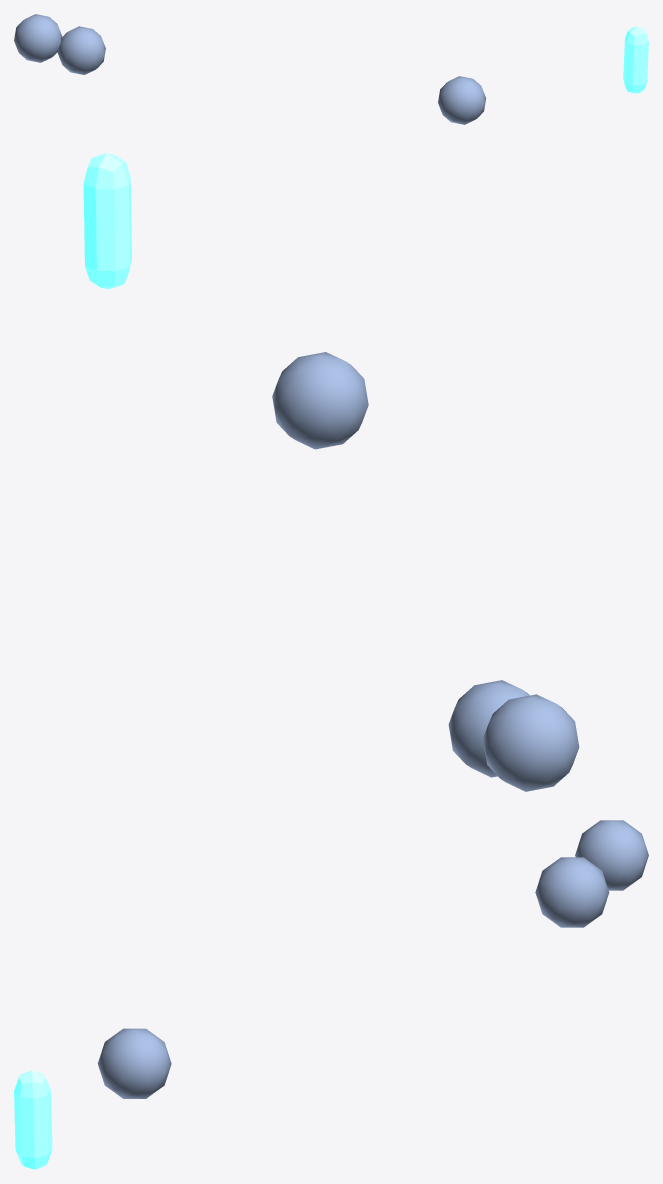
File: StartLevel.glb
The picture shows the model from 3 angles, top to bottom: view 1: azimuth 30°, elevation 25°; view 2: azimuth 150°, elevation 25°; view 3: azimuth 270°, elevation 25°; orthographic projection. The views are drawn at different scales.
Parts seen in each view (by area): view 1: SomeMesh, SomeMesh.001, SomeMesh.002, Health_Pickup_geometry.001; view 2: SomeMesh, SomeMesh.002, Health_Pickup_geometry.001, SomeMesh.001; view 3: SomeMesh, SomeMesh.001, SomeMesh.002, Health_Pickup_geometry.001.
Part boxes in pixels (bbox=[...]): SomeMesh: bbox=[438, 76, 485, 124]; SomeMesh.001: bbox=[57, 26, 105, 74]; SomeMesh.002: bbox=[14, 14, 62, 62]; Health_Pickup_geometry.001: bbox=[623, 27, 648, 93]; SomeMesh: bbox=[272, 352, 368, 449]; SomeMesh.002: bbox=[483, 694, 579, 791]; Health_Pickup_geometry.001: bbox=[83, 153, 131, 289]; SomeMesh.001: bbox=[448, 680, 529, 777]; SomeMesh: bbox=[97, 1028, 171, 1098]; SomeMesh.001: bbox=[535, 857, 609, 927]; SomeMesh.002: bbox=[575, 820, 648, 890]; Health_Pickup_geometry.001: bbox=[14, 1070, 52, 1169].
Size of what is drawn, in the model's own units: 20.42 by 3.87 by 17.18.
